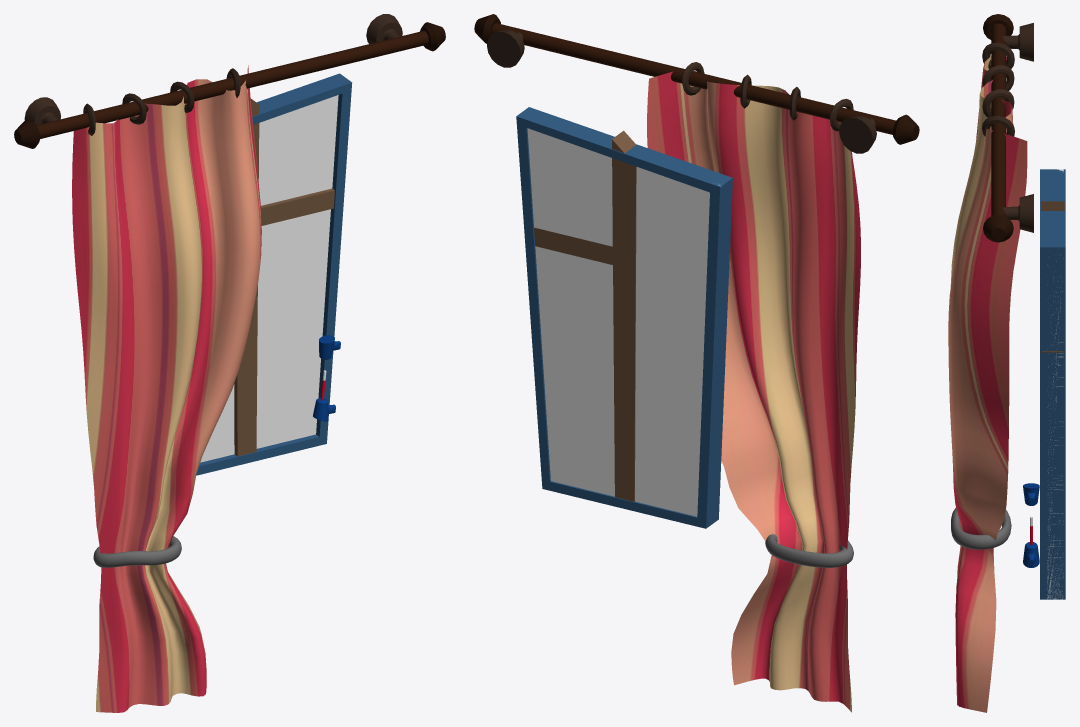
Rendered from window.fbx.
3 views of the same model, side by side, from view 1: azimuth 30°, elevation 25°; view 2: azimuth 150°, elevation 25°; view 3: azimuth 270°, elevation 25° (orthographic). The views are drawn at different scales.
Parts seen in each view (by area): view 1: pencere; view 2: pencere; view 3: pencere.
Part boxes in pixels (x1,y1,x2,y2): pencere: (14, 14, 445, 712); pencere: (474, 14, 919, 712); pencere: (948, 14, 1065, 712).
Size of the model in its own units: 237 by 322 by 55.25.
Materials: 3 (2 with a texture image).
